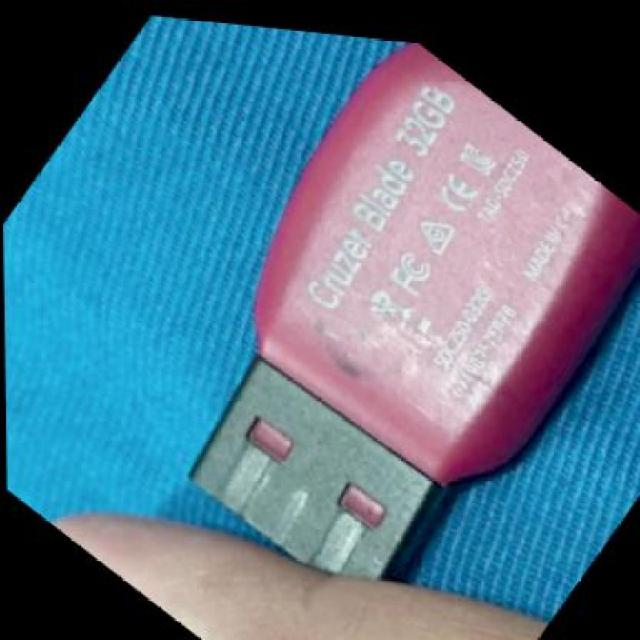Flashdisk: (109, 9, 640, 631)
